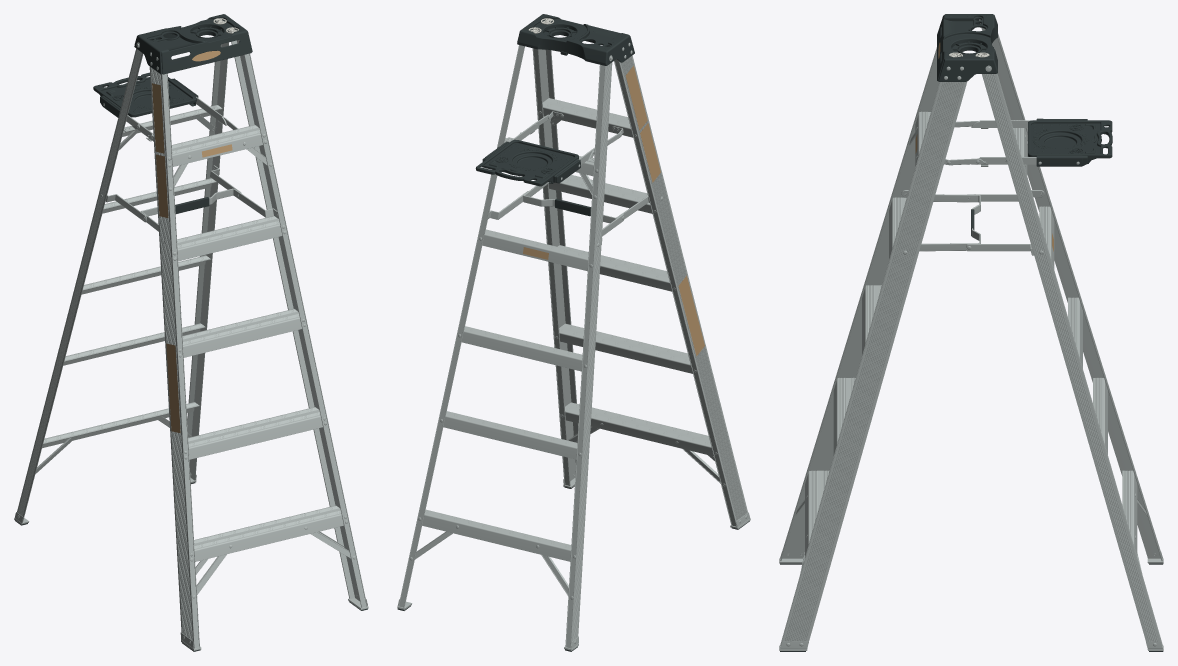
Rendered from ladder_step_aluminium_a06.glb.
3 renders of one model, left to right at view 1: azimuth 30°, elevation 25°; view 2: azimuth 150°, elevation 25°; view 3: azimuth 270°, elevation 25°, orthographic. The views are drawn at different scales.
Size of the model in its own units: 0.6017 by 1.75 by 1.07.
